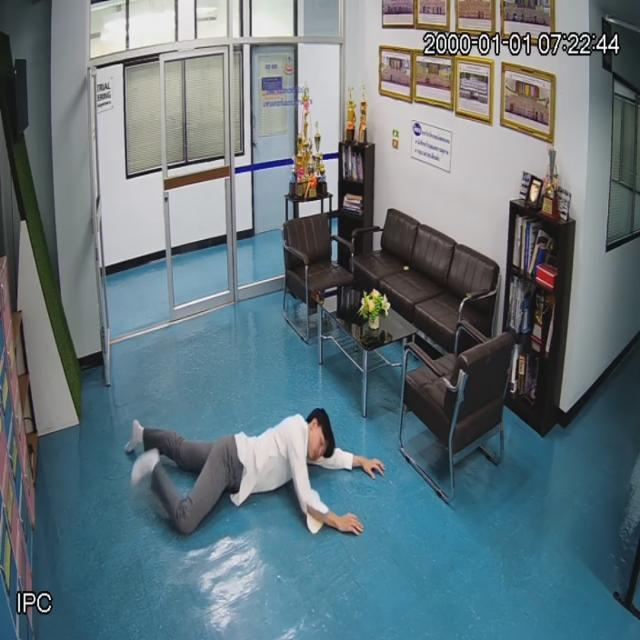fall: (131, 408, 369, 542)
